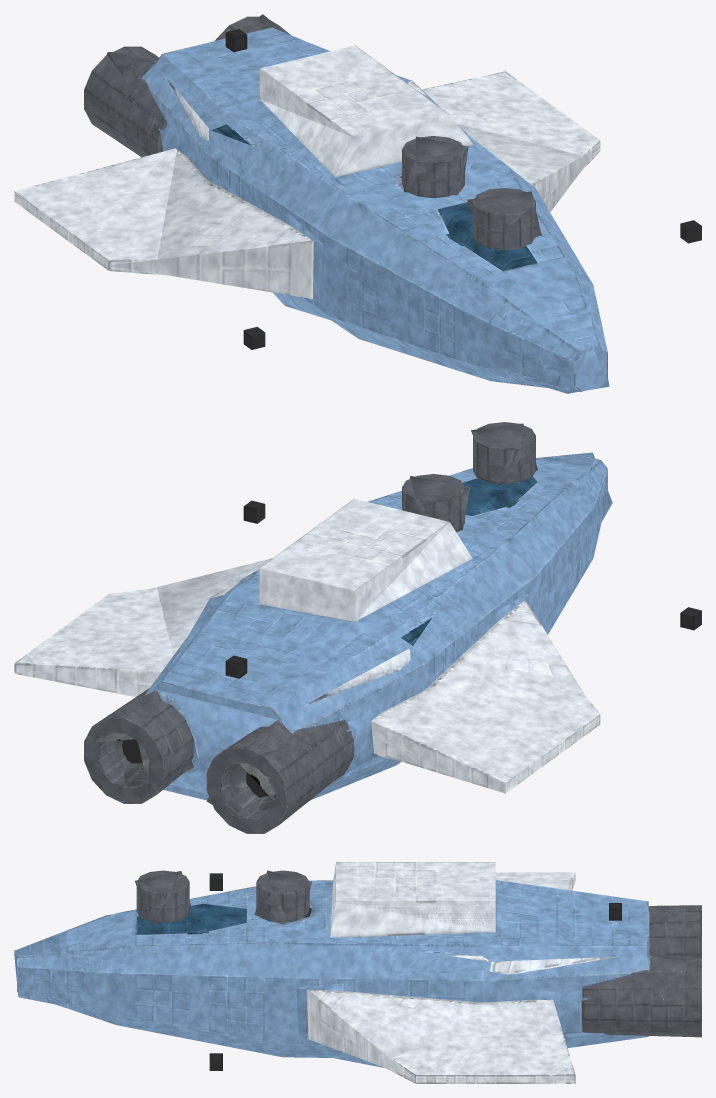
File: sd_npc_corvette.glb
3 renders of one model, top to bottom at view 1: azimuth 30°, elevation 25°; view 2: azimuth 150°, elevation 25°; view 3: azimuth 270°, elevation 25°, orthographic. The views are drawn at different scales.
Visible parts, largest first — view 1: LOD0_body, LOD1_body; view 2: LOD0_body, LOD1_body; view 3: LOD0_body, LOD1_body.
Part boxes in pixels (x1,y1,x2,y2): LOD0_body: (14, 16, 701, 391); LOD1_body: (14, 14, 609, 393); LOD0_body: (14, 422, 701, 833); LOD1_body: (91, 423, 612, 827); LOD0_body: (17, 862, 701, 1083); LOD1_body: (14, 862, 701, 1079).
Size of the model in its own units: 0.7003 by 0.2406 by 1.
1 material, 1 textured.
